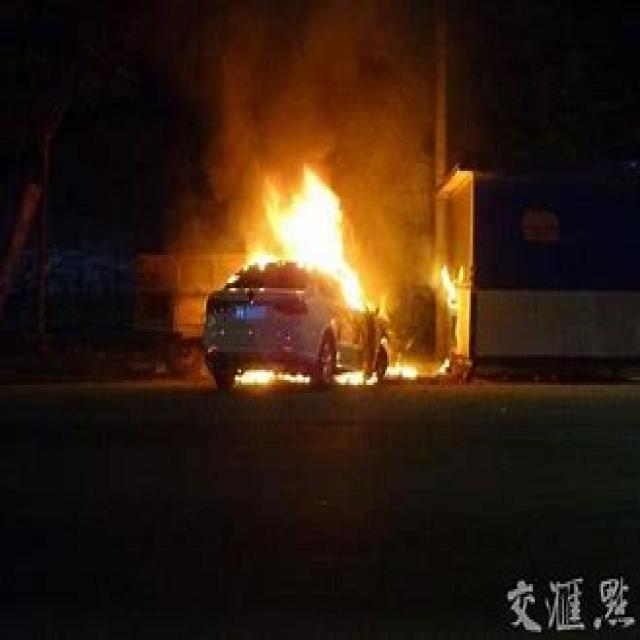fire: (246, 160, 386, 316), (233, 350, 453, 391), (423, 250, 468, 319)
